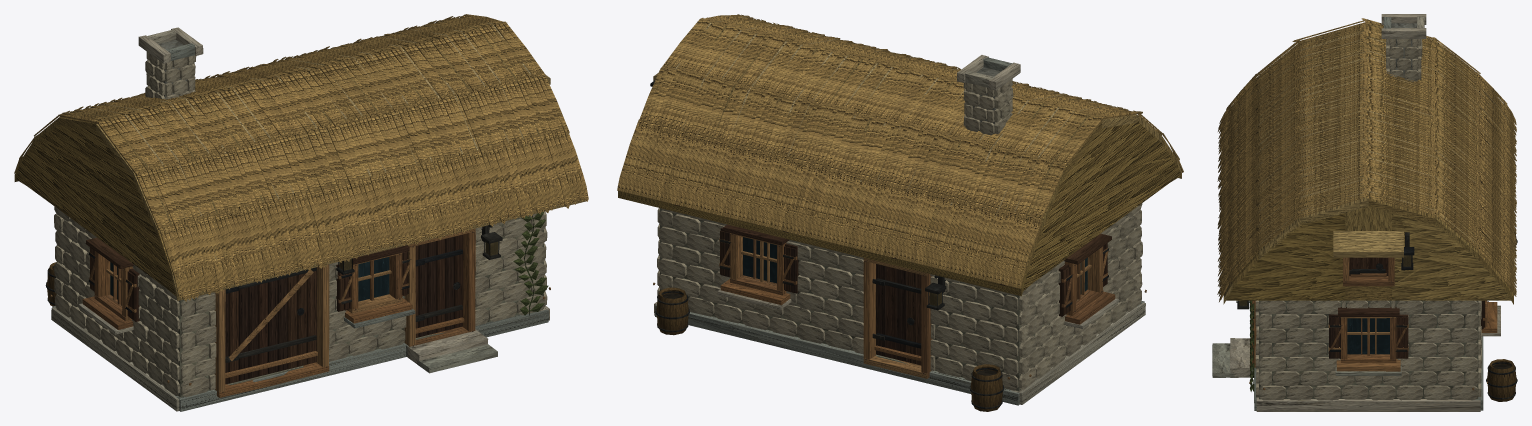
The model's file is 09_farmer_west.glb.
3 views of the same model, side by side, from view 1: azimuth 30°, elevation 25°; view 2: azimuth 150°, elevation 25°; view 3: azimuth 270°, elevation 25° (orthographic). The views are drawn at different scales.
Visible parts, largest first — view 1: 09_farmer_west; view 2: 09_farmer_west; view 3: 09_farmer_west.
Part boxes in pixels (x1=…): 09_farmer_west: x1=14, y1=14, x2=588, y2=411; 09_farmer_west: x1=617, y1=14, x2=1183, y2=411; 09_farmer_west: x1=1212, y1=14, x2=1517, y2=411.
Bounding box in the file's own units: 6.33 × 4.05 × 4.31.
Materials: 7 (7 with a texture image).
